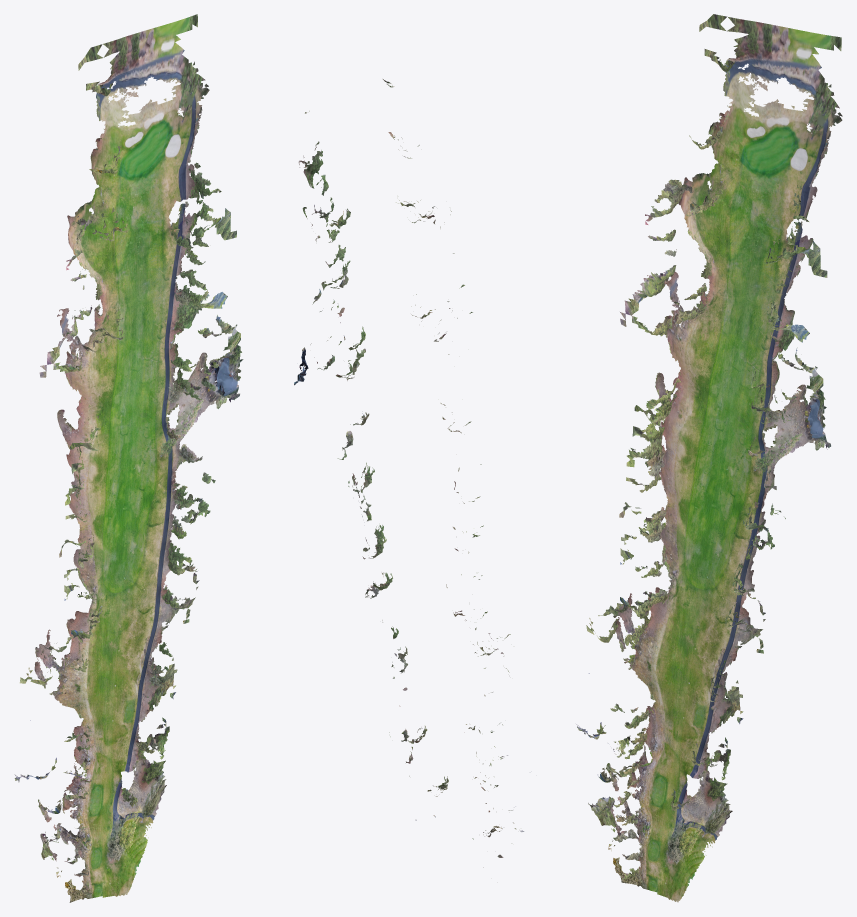
The picture shows the model from 3 angles, left to right: view 1: azimuth 30°, elevation 25°; view 2: azimuth 150°, elevation 25°; view 3: azimuth 330°, elevation 25°; orthographic projection. The views are drawn at different scales.
Bounding box in the file's own units: 139 × 464 × 53.21.
Materials: 25 (25 with a texture image).
